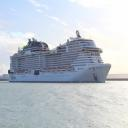cruises: (8, 30, 113, 86)
